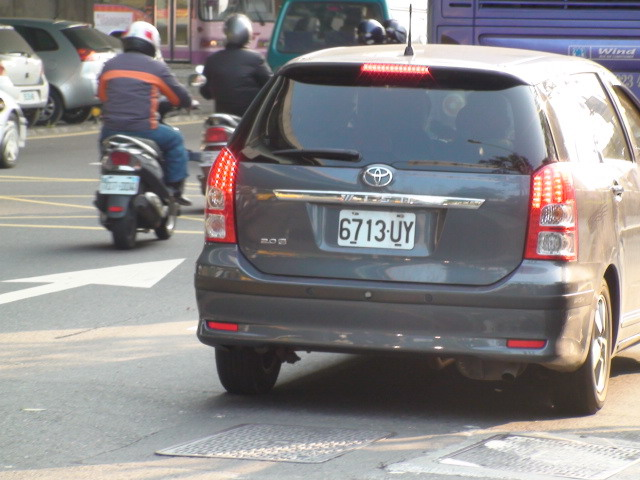plate: (336, 208, 417, 252)
